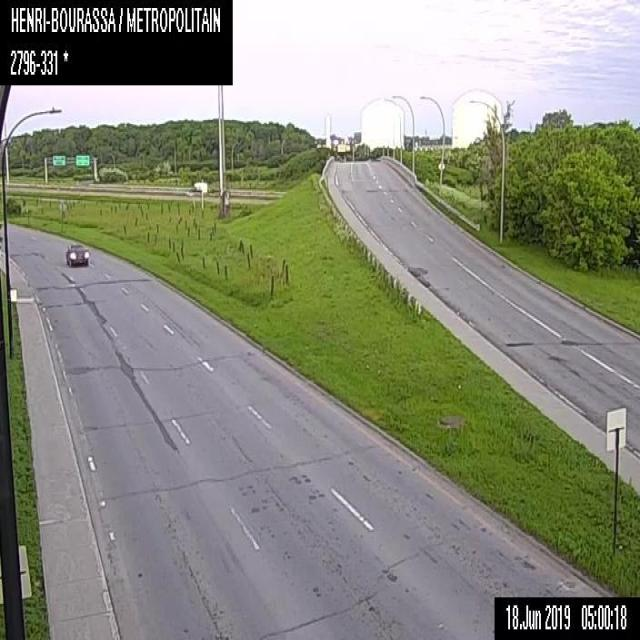vehicle: (65, 241, 89, 267)
